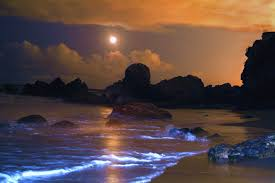moon: (107, 34, 119, 45)
